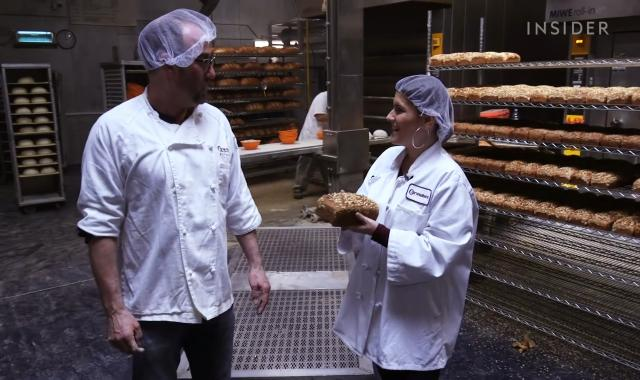hairnet: (131, 7, 217, 71), (394, 73, 454, 142)
